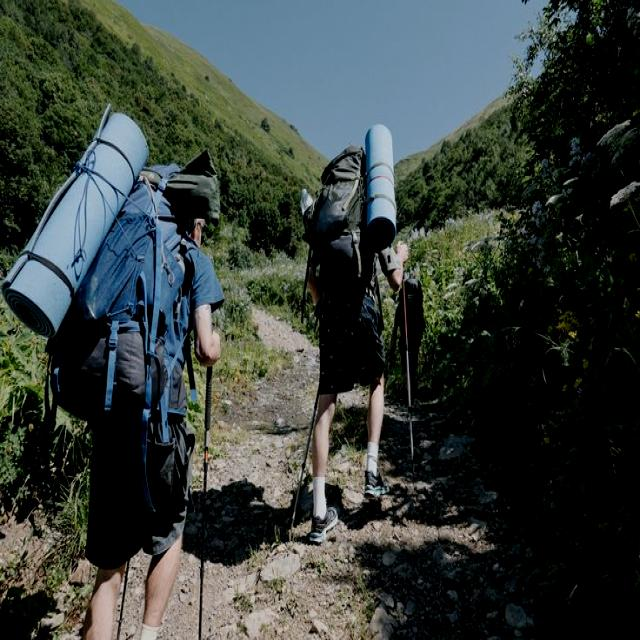backpack: (49, 166, 197, 426), (305, 145, 375, 297)
